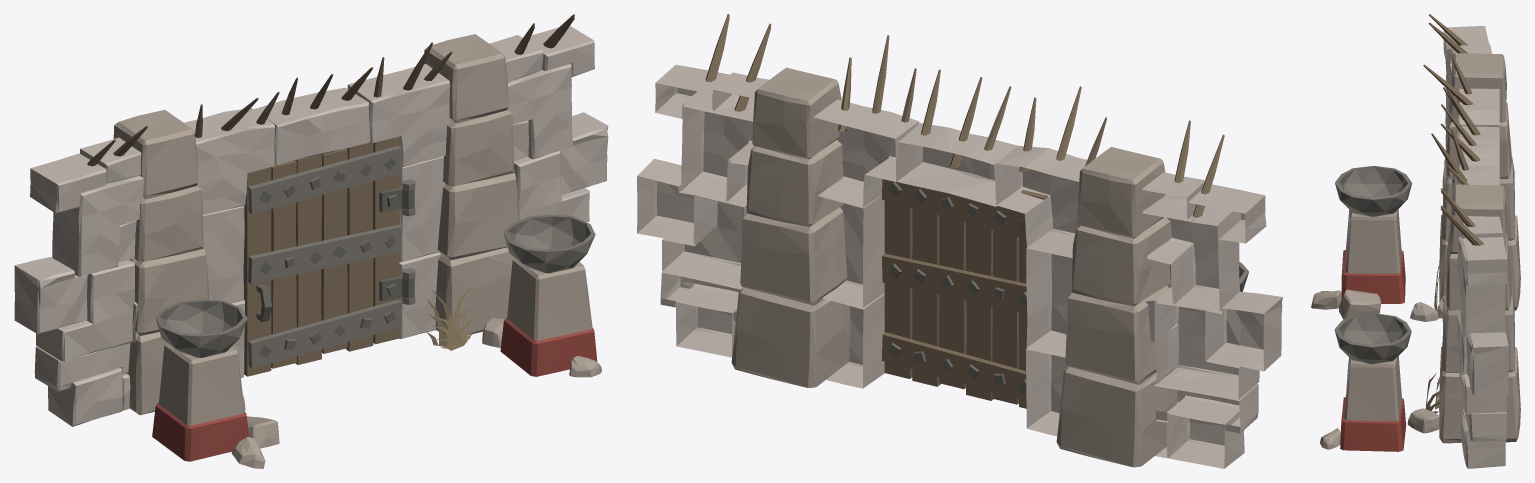
File: mazeDoorSingle.fbx
The picture shows the model from 3 angles, left to right: view 1: azimuth 30°, elevation 25°; view 2: azimuth 150°, elevation 25°; view 3: azimuth 270°, elevation 25°; orthographic projection. The views are drawn at different scales.
Parts seen in each view (by area): view 1: mazeDoorSingle, singleDoor; view 2: mazeDoorSingle, singleDoor; view 3: mazeDoorSingle.
Part boxes in pixels (<box>): mazeDoorSingle: <box>14,14,608,468</box>; singleDoor: <box>243,136,414,376</box>; mazeDoorSingle: <box>637,14,1282,468</box>; singleDoor: <box>881,179,1047,408</box>; mazeDoorSingle: <box>1311,14,1520,468</box>.
Size of the model in its own units: 9.78 by 5.1 by 3.48.
